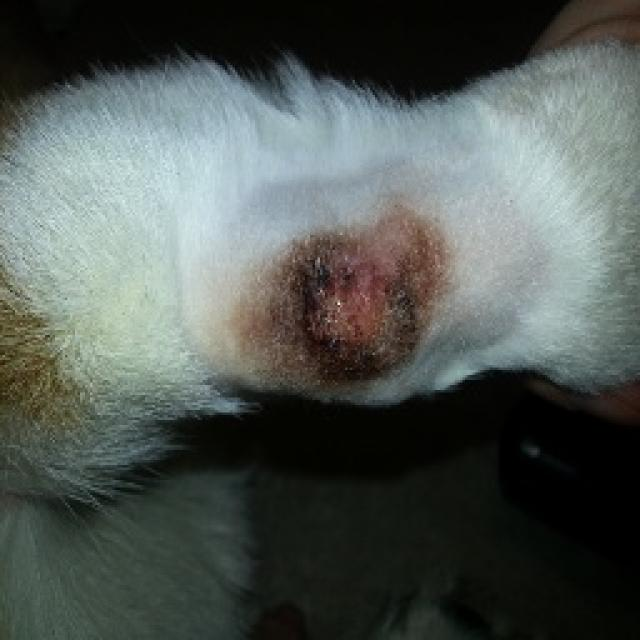hotspot: (301, 242, 413, 372)
